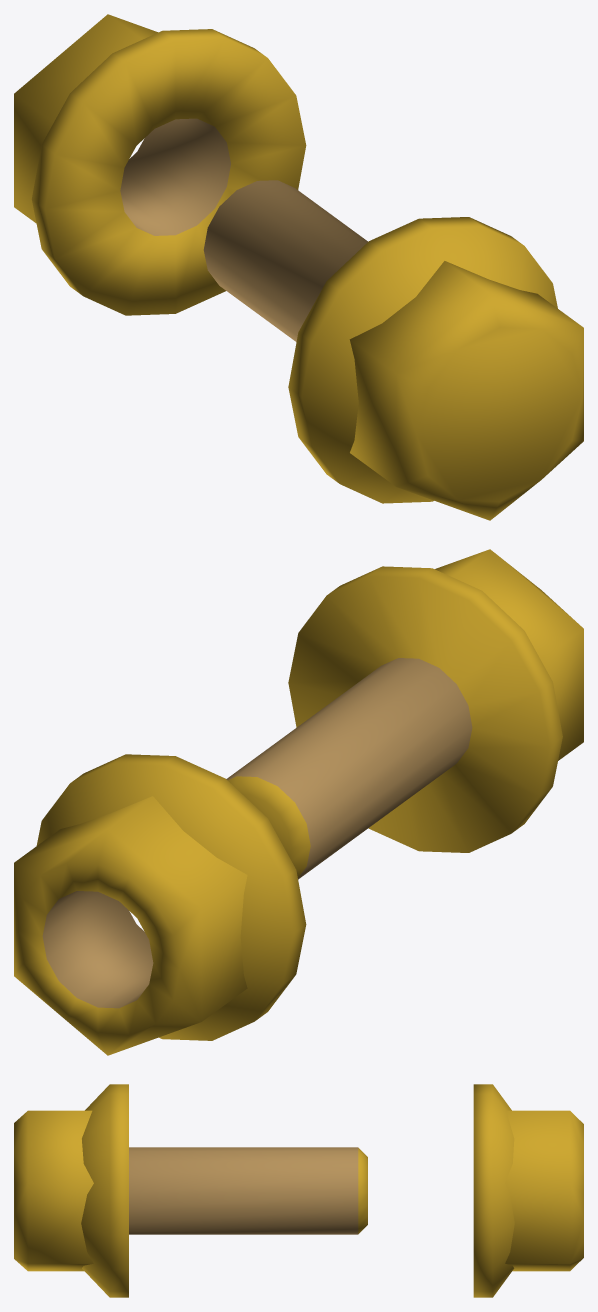
File: bolt_and_nut.glb
3 renders of one model, top to bottom at view 1: azimuth 30°, elevation 25°; view 2: azimuth 150°, elevation 25°; view 3: azimuth 270°, elevation 25°, orthographic. The views are drawn at different scales.
Visible parts, largest first — view 1: Bolt, Nut; view 2: Bolt, Nut; view 3: Bolt, Nut.
Part boxes in pixels (bbox=[...]): Bolt: bbox=[203, 180, 583, 520]; Nut: bbox=[14, 14, 306, 315]; Bolt: bbox=[226, 549, 583, 879]; Nut: bbox=[14, 754, 306, 1055]; Bolt: bbox=[14, 1084, 367, 1297]; Nut: bbox=[473, 1084, 583, 1297].
Bounding box in the file's own units: 0.0244 × 0.0244 × 0.065.
